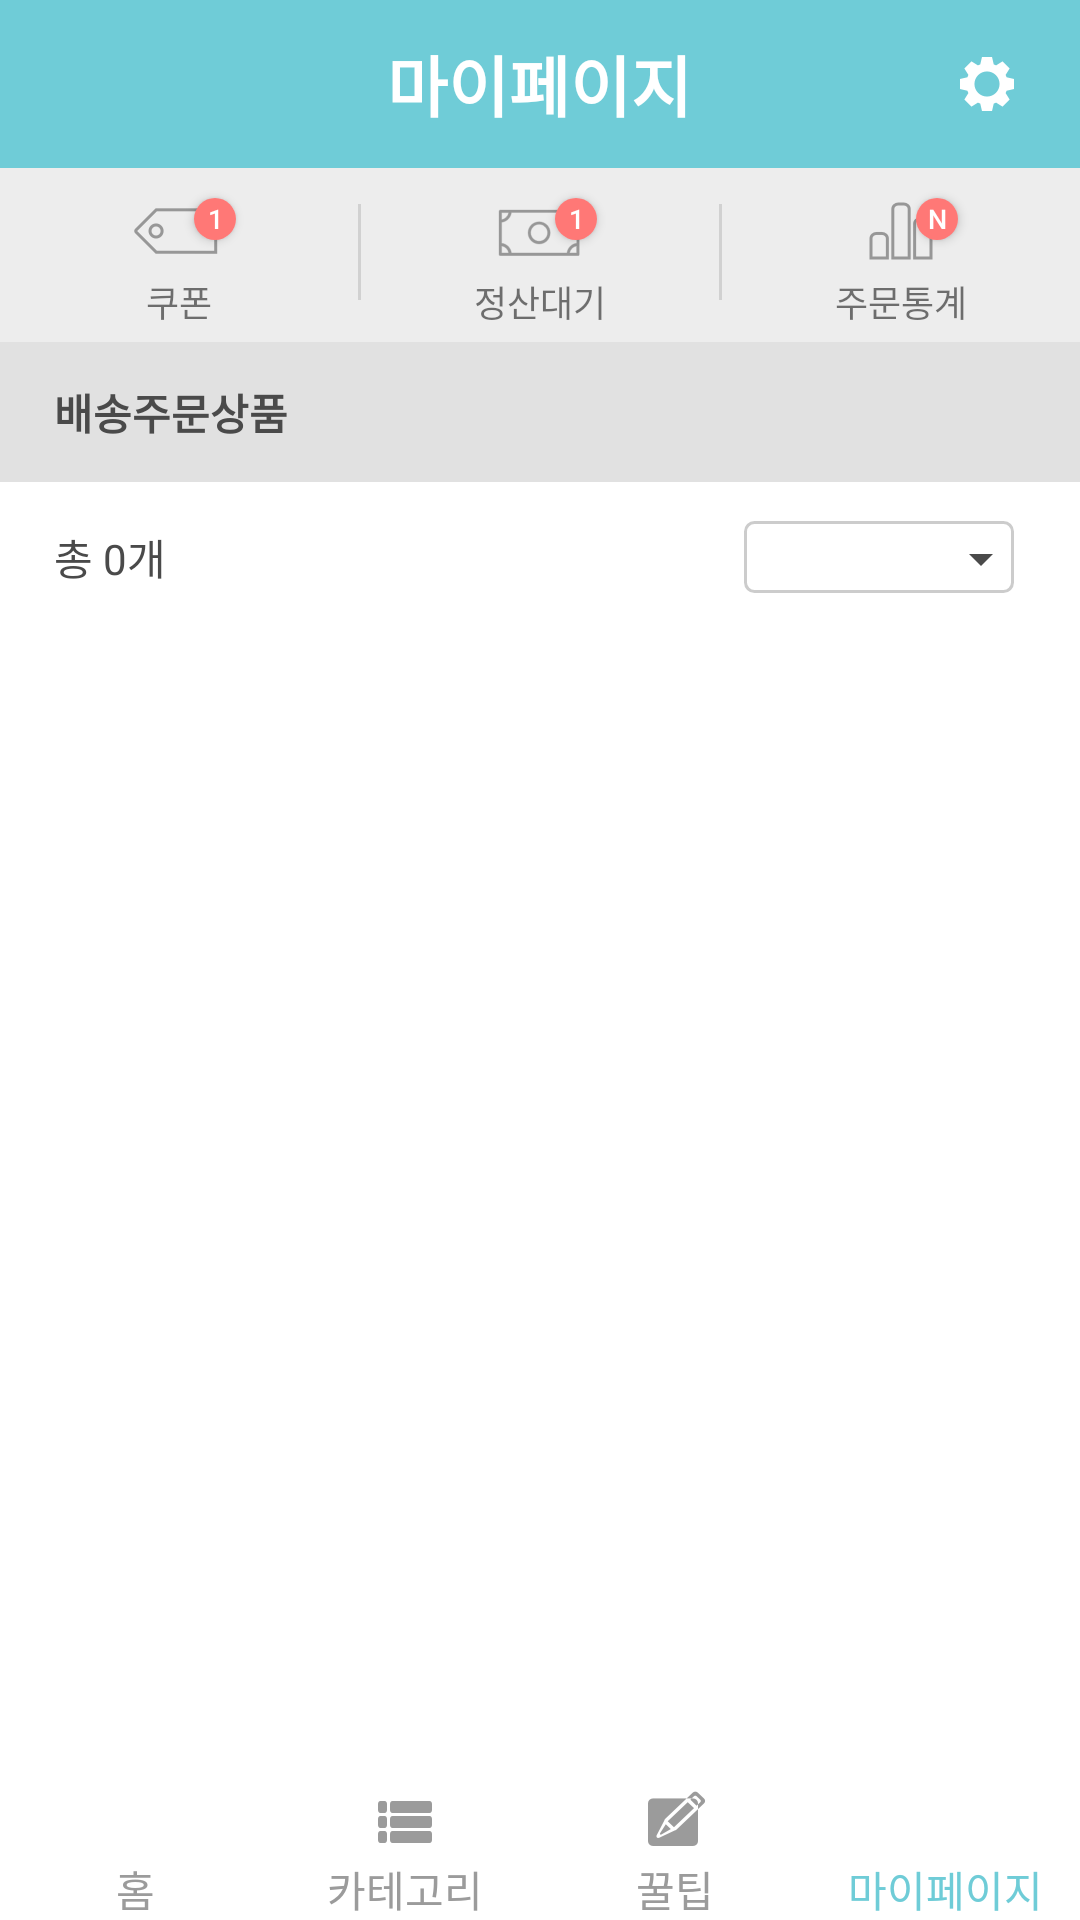

Where to tap for icons on this 1080 x 1920 app screen, as point (x, y):
page setting: point (987, 84)
